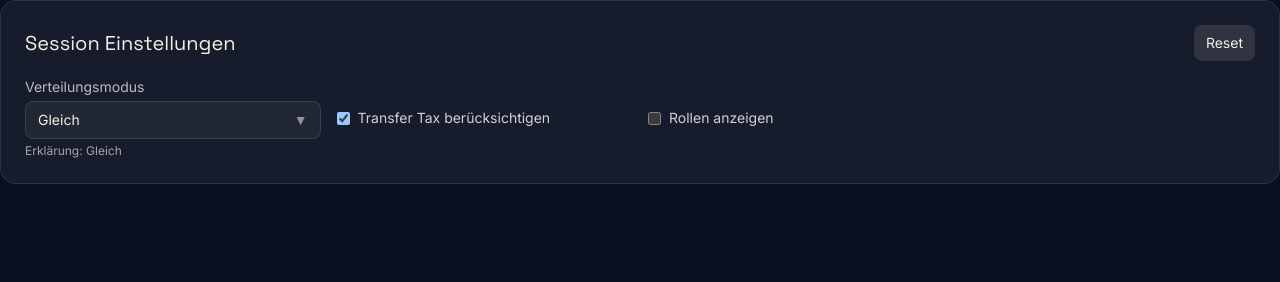
SessionSettings - Distribution Mode Selector › should close dropdown after selecting a mode
Click the button "Gleich ▼" at (59,120), box [25,101,320,139]
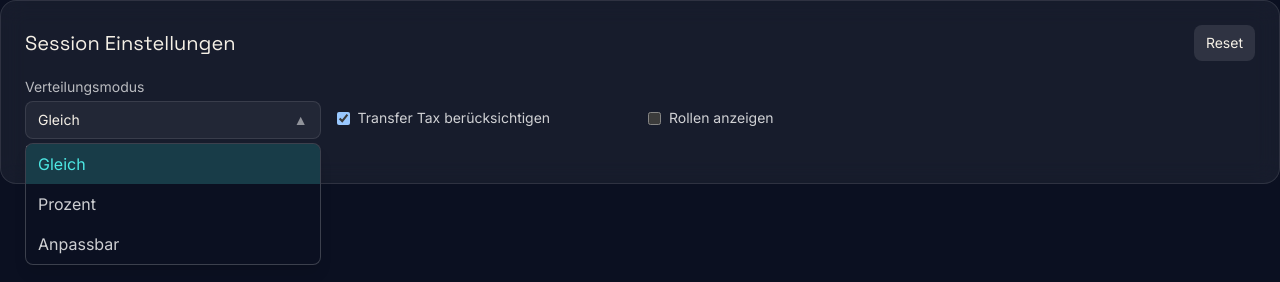
Click the option "Prozent" at (67,204), box [38,194,96,214]
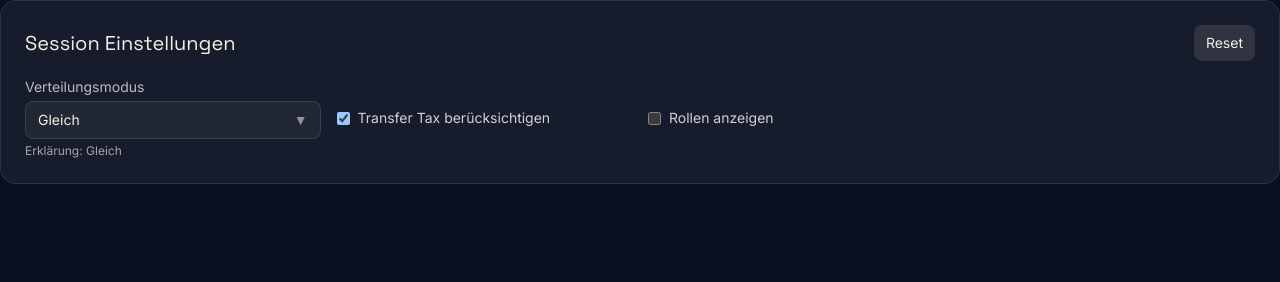
Now the list is gone
